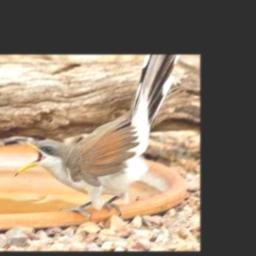Cuckoo: (14, 55, 180, 217)
